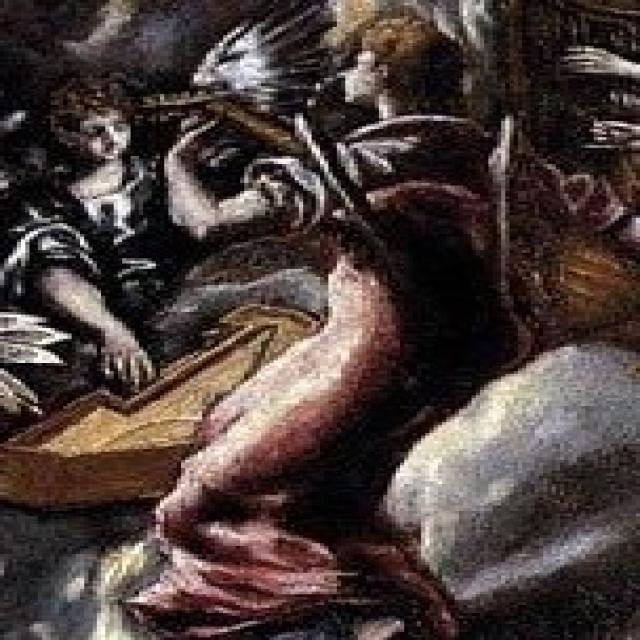angel: (136, 6, 593, 640)
